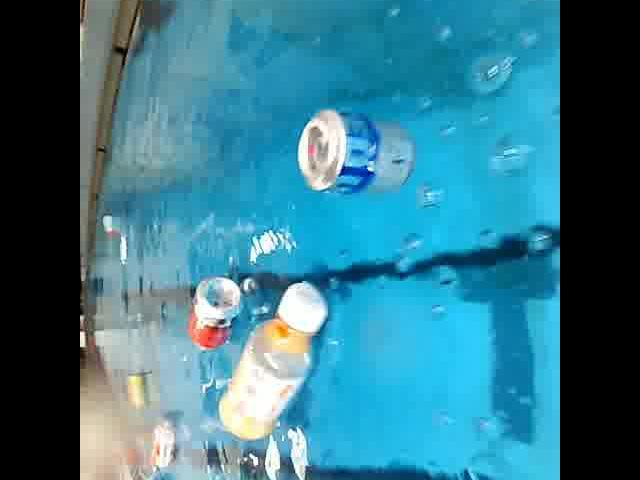Bottle: (217, 280, 333, 442)
Can: (294, 100, 417, 200), (185, 270, 240, 354), (121, 368, 157, 418)
